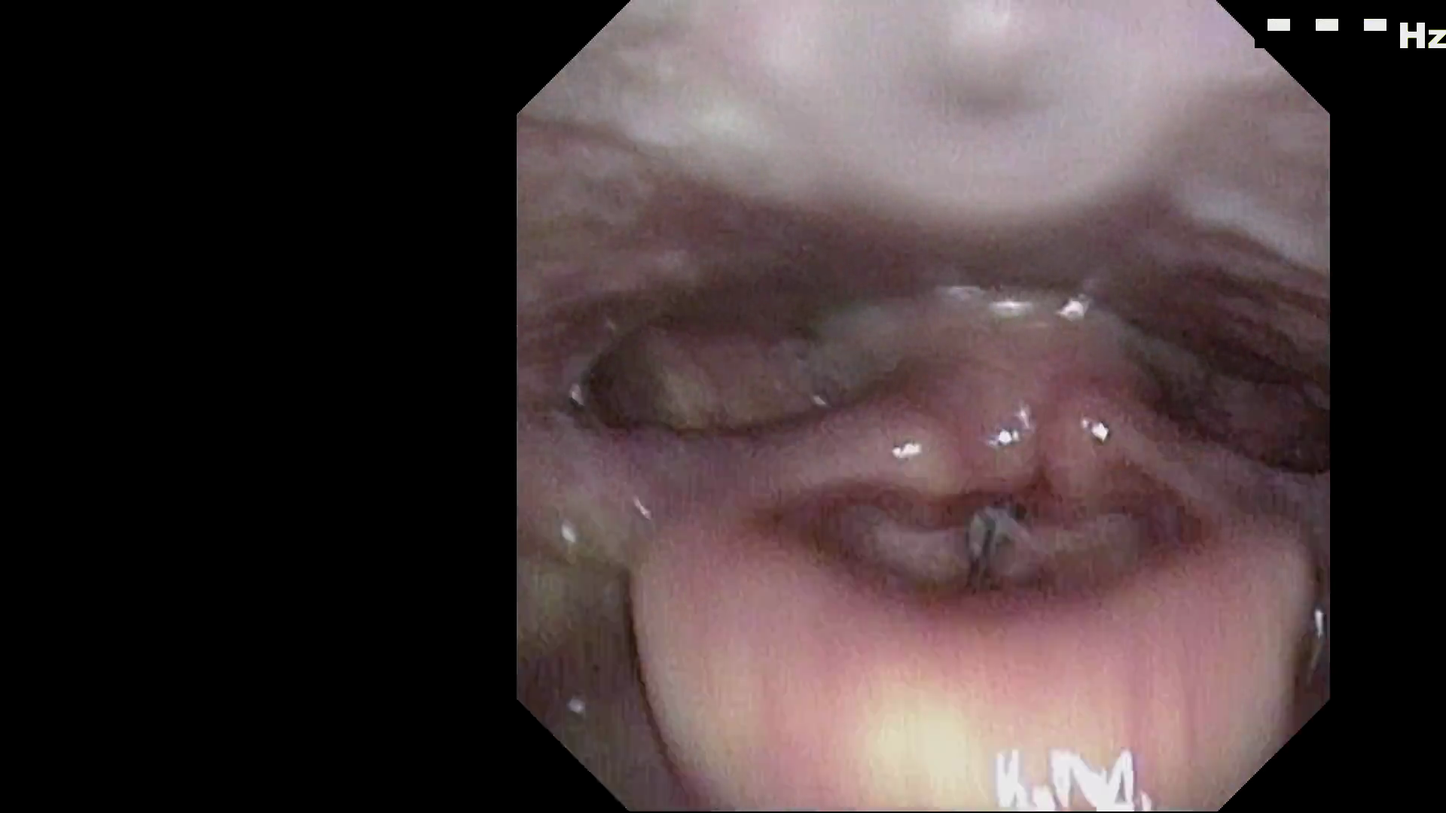epiglottis: (673, 541, 1256, 744), (699, 369, 1249, 536)
